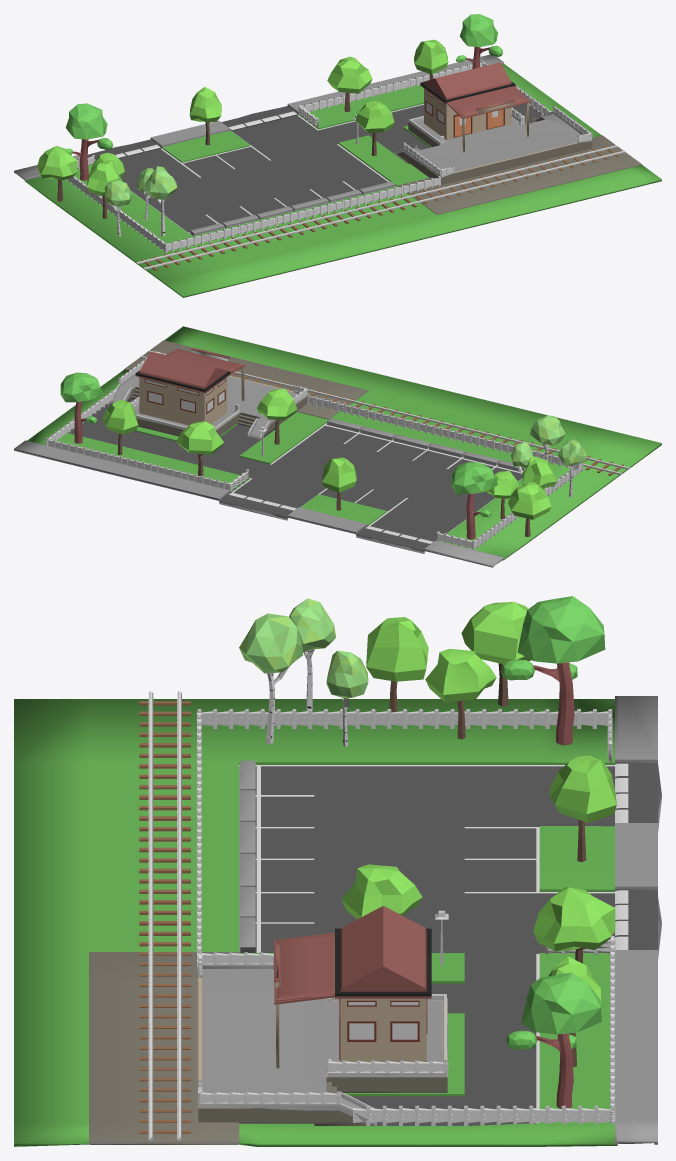
Rendered from Estacion_de_tren.fbx.
The picture shows the model from 3 angles, top to bottom: view 1: azimuth 30°, elevation 25°; view 2: azimuth 150°, elevation 25°; view 3: azimuth 270°, elevation 25°; orthographic projection. The views are drawn at different scales.
Parts seen in each view (by area): view 1: Train_station; view 2: Train_station; view 3: Train_station.
Boxes of the visible parts, bbox=[...] form: Train_station: bbox=[14, 14, 661, 297]; Train_station: bbox=[14, 326, 661, 567]; Train_station: bbox=[14, 596, 661, 1146].
Bounding box in the file's own units: 7649 × 1149 × 4562.
